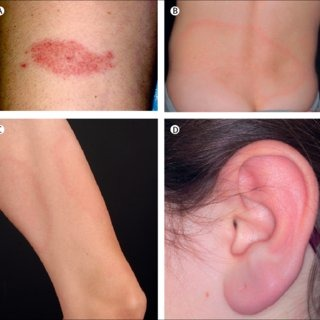Ringworm: (178, 17, 307, 102), (26, 25, 119, 84)
